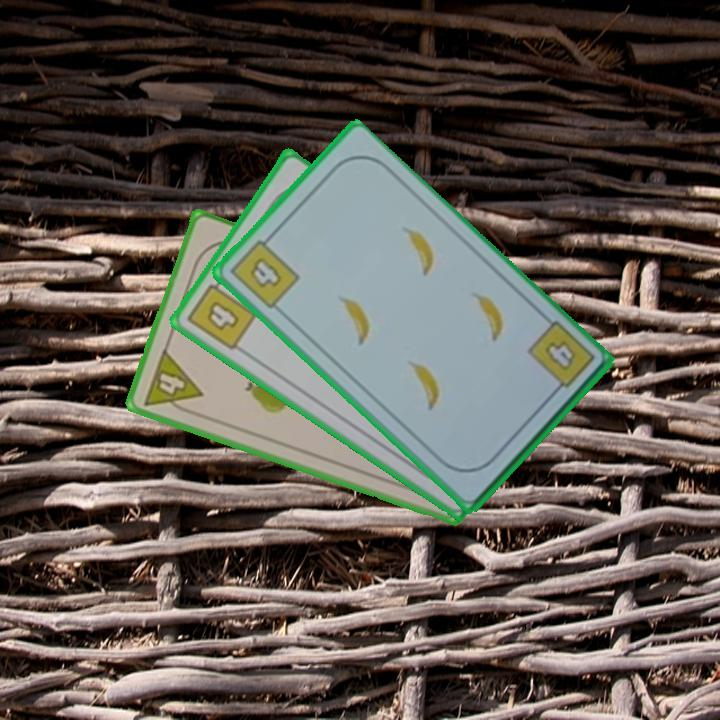4b: (226, 231, 303, 313), (183, 272, 259, 354), (523, 317, 598, 400)
4p: (139, 345, 206, 419)
